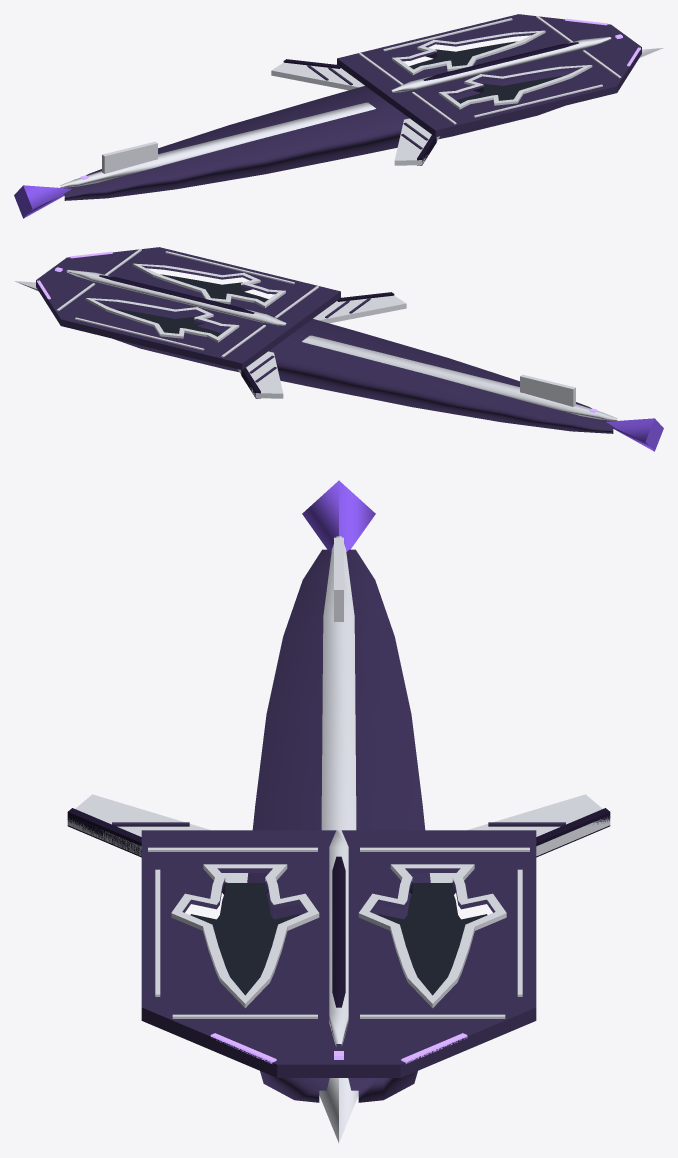
The model's file is offertory-hadron.glb.
3 views of the same model, one above another, from view 1: azimuth 30°, elevation 25°; view 2: azimuth 150°, elevation 25°; view 3: azimuth 270°, elevation 25° (orthographic). The views are drawn at different scales.
Parts seen in each view (by area): view 1: flight_deck, blade_hull, blade_spine_aft, blade_spine, cradle_rim_s, cradle_rim_p, guard_wing_p, dorsal_fin, guard_wing_s, drive_prism, cradle_floor_s, cradle_floor_p (+3 smaller); view 2: flight_deck, blade_hull, blade_spine_aft, blade_spine, cradle_rim_p, cradle_rim_s, guard_wing_s, dorsal_fin, guard_wing_p, drive_prism, cradle_floor_p, cradle_floor_s (+3 smaller); view 3: flight_deck, blade_hull, blade_spine_aft, cradle_floor_p, cradle_floor_s, cradle_rim_s, cradle_rim_p, guard_wing_p, guard_wing_s, drive_prism, blade_spine, spine_inlay (+2 smaller).
Boxes of the visible parts, x1=… form: flight_deck: x1=337, y1=14, x2=641, y2=136; blade_hull: x1=60, y1=69, x2=577, y2=200; blade_spine_aft: x1=60, y1=102, x2=375, y2=187; blade_spine: x1=391, y1=37, x2=611, y2=92; cradle_rim_s: x1=438, y1=65, x2=592, y2=109; cradle_rim_p: x1=392, y1=30, x2=545, y2=74; guard_wing_p: x1=271, y1=62, x2=364, y2=90; dorsal_fin: x1=102, y1=141, x2=157, y2=173; guard_wing_s: x1=394, y1=118, x2=439, y2=165; drive_prism: x1=14, y1=185, x2=71, y2=218; cradle_floor_s: x1=456, y1=75, x2=564, y2=103; cradle_floor_p: x1=409, y1=41, x2=517, y2=69; flight_deck: x1=36, y1=247, x2=340, y2=369; blade_hull: x1=100, y1=302, x2=617, y2=433; blade_spine_aft: x1=302, y1=335, x2=617, y2=420; blade_spine: x1=66, y1=270, x2=286, y2=325; cradle_rim_p: x1=85, y1=298, x2=239, y2=342; cradle_rim_s: x1=132, y1=263, x2=285, y2=307; guard_wing_s: x1=313, y1=295, x2=406, y2=323; dorsal_fin: x1=520, y1=374, x2=575, y2=406; guard_wing_p: x1=238, y1=351, x2=283, y2=398; drive_prism: x1=606, y1=418, x2=663, y2=451; cradle_floor_p: x1=113, y1=308, x2=221, y2=336; cradle_floor_s: x1=160, y1=274, x2=268, y2=302; flight_deck: x1=141, y1=830, x2=536, y2=1077; blade_hull: x1=247, y1=549, x2=430, y2=1102; blade_spine_aft: x1=321, y1=536, x2=356, y2=830; cradle_floor_p: x1=378, y1=883, x2=487, y2=995; cradle_floor_s: x1=190, y1=883, x2=299, y2=995; cradle_rim_s: x1=171, y1=864, x2=319, y2=1008; cradle_rim_p: x1=358, y1=864, x2=506, y2=1008; guard_wing_p: x1=429, y1=794, x2=610, y2=882; guard_wing_s: x1=67, y1=794, x2=248, y2=882; drive_prism: x1=302, y1=480, x2=375, y2=551; blade_spine: x1=329, y1=830, x2=348, y2=1046; spine_inlay: x1=332, y1=856, x2=345, y2=1007.
Bounding box in the file's own units: 120 × 10.35 × 44.
